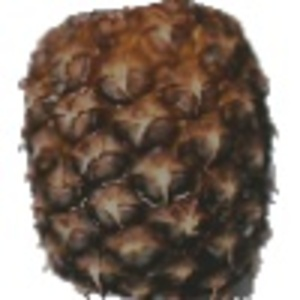abacaxi: (14, 3, 281, 297)
